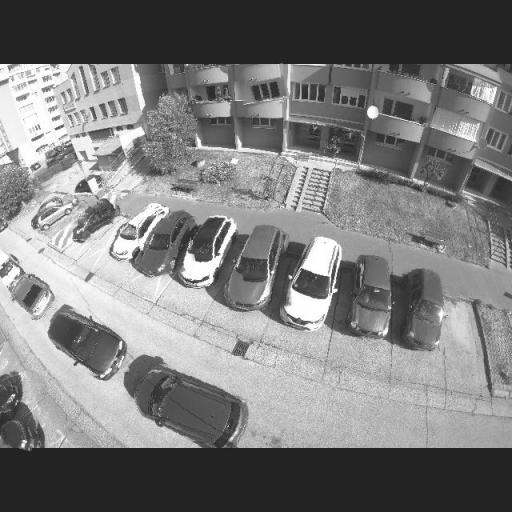busy: (134, 359, 248, 444), (276, 235, 348, 330), (44, 304, 128, 380), (220, 222, 290, 312), (396, 265, 458, 351), (344, 250, 402, 340), (176, 214, 242, 288), (0, 370, 46, 450), (137, 212, 194, 276), (110, 204, 164, 266), (6, 258, 52, 320), (66, 197, 116, 245), (238, 65, 288, 106), (32, 198, 72, 228)
free: (442, 314, 484, 360), (99, 224, 125, 252), (52, 218, 78, 244)
